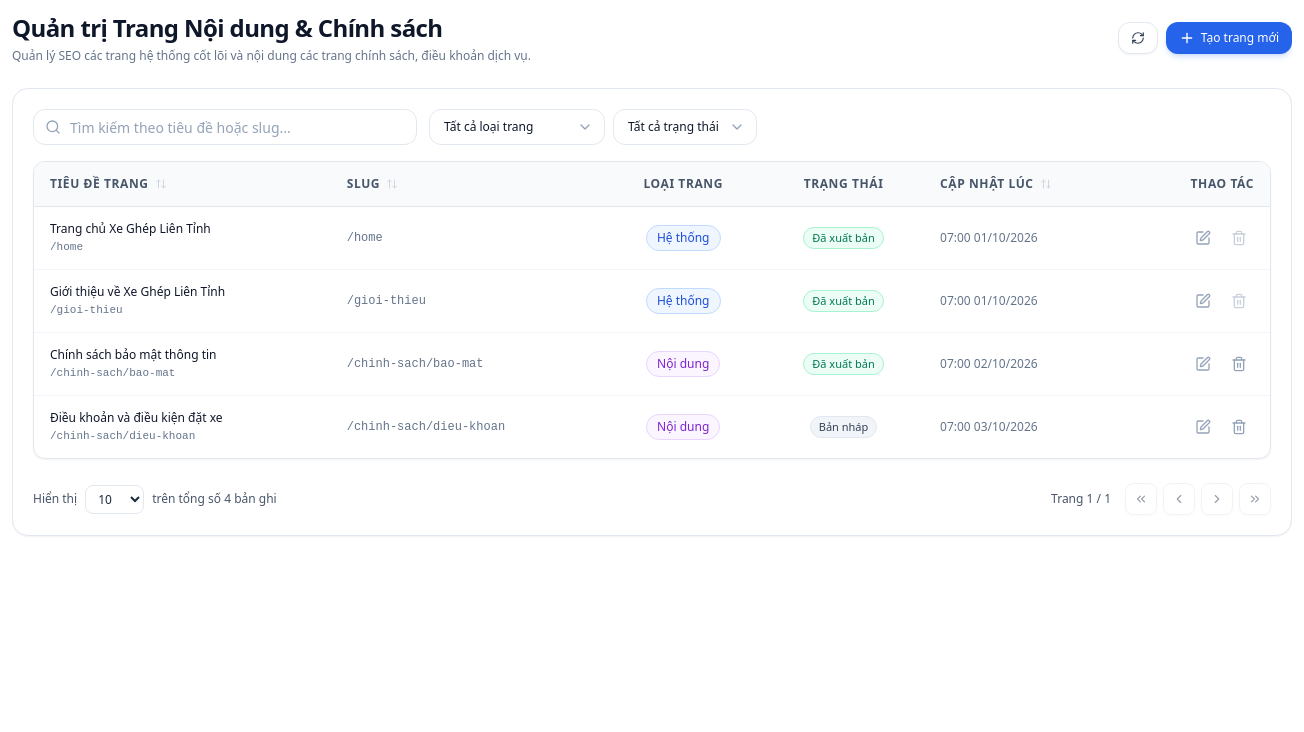
Test: Pages Module (Task T113) › PageList Component › lọc danh sách trang theo loại (kind=system / kind=content)
Expected: the link "Trang chủ Xe Ghép Liên Tỉnh" is shown, [50, 220, 211, 237]
Lọc chọn chỉ trang hệ thống
Select "Trang hệ thống" in the dropdown with test id "filter-kind-select" at coordinates (517, 127), box [429, 109, 605, 145]
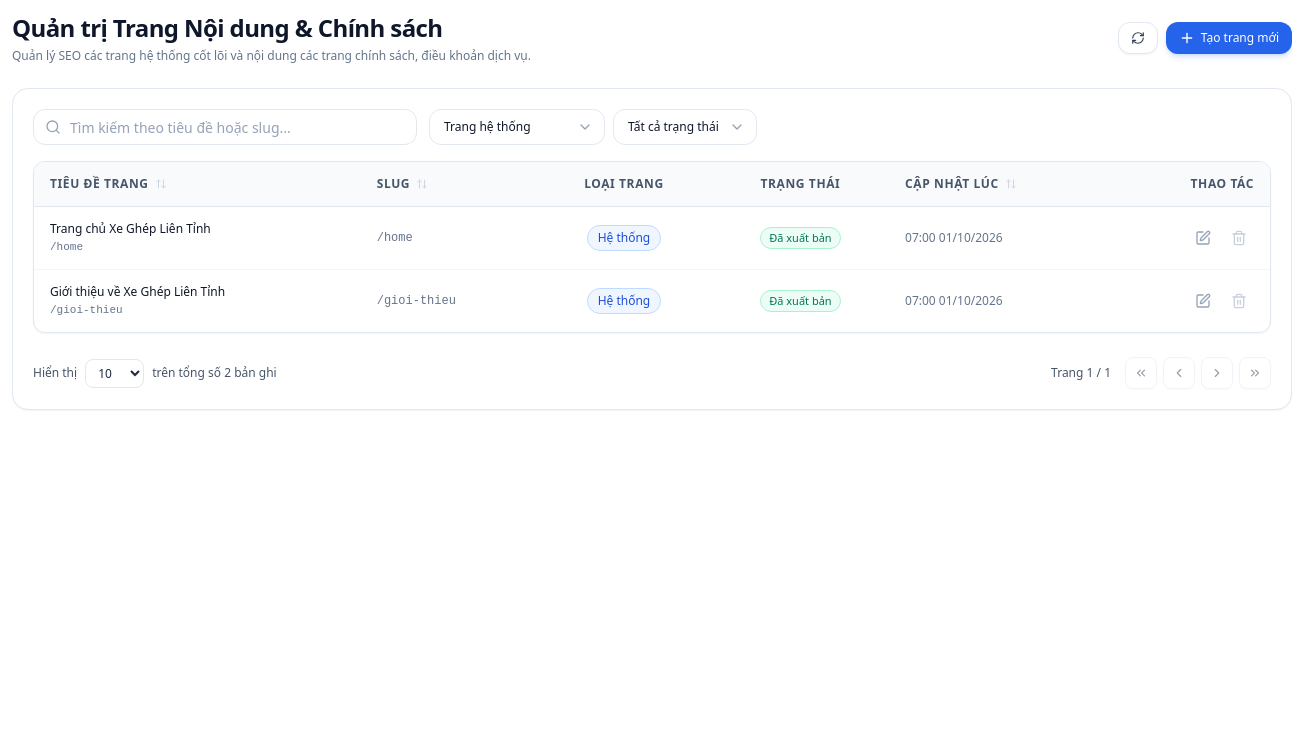
Expected: the link "Trang chủ Xe Ghép Liên Tỉnh" is shown, [50, 220, 211, 237]
Expected: the link "Chính sách bảo mật thông tin" is gone
Lọc chọn chỉ trang nội dung
Select "Trang nội dung" in the dropdown with test id "filter-kind-select" at coordinates (517, 127), box [429, 109, 605, 145]
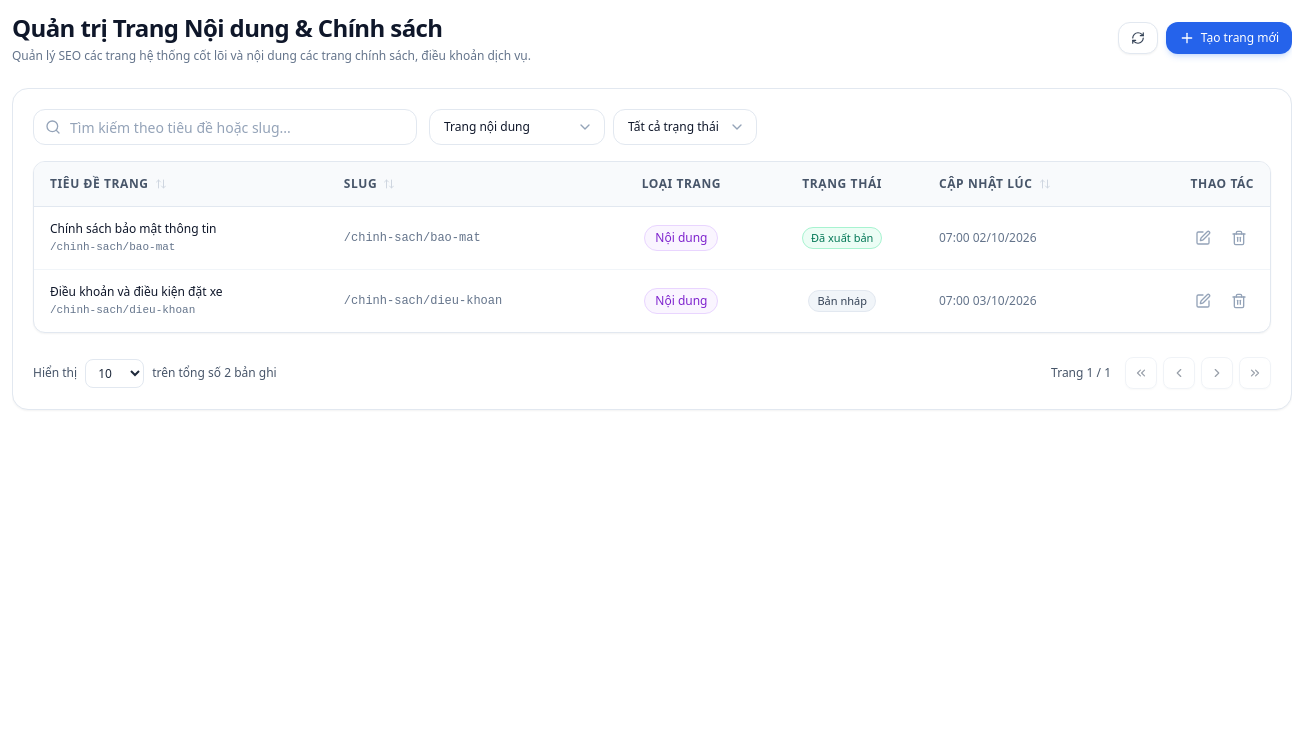
Expected: the link "Chính sách bảo mật thông tin" is shown, [50, 220, 216, 237]
Expected: the link "Trang chủ Xe Ghép Liên Tỉnh" is gone
